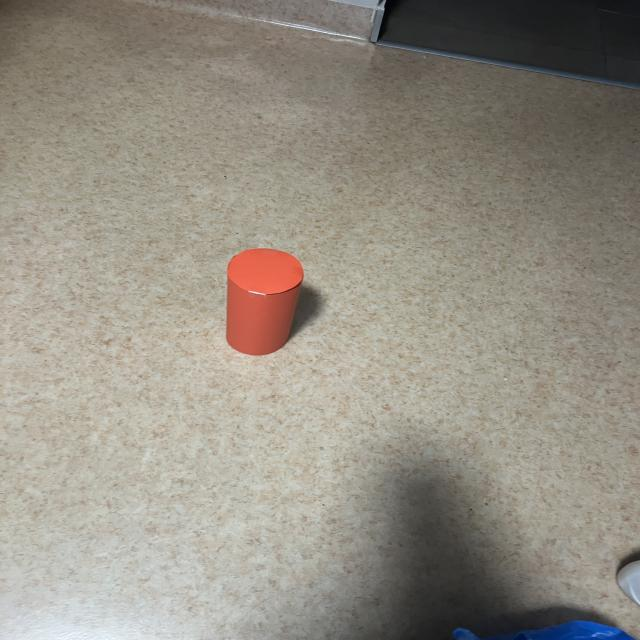przeszkoda: (226, 248, 303, 355)
